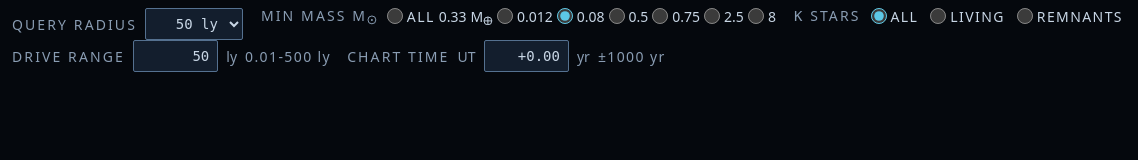
Test: ChartControls › refuses a chart time outside the clock window and reports nothing
The image size is (1138, 160).
Replace the text in the field labelled "CHART TIME" with "1001" at (526, 56), box [484,40,569,72]
Then press Enter
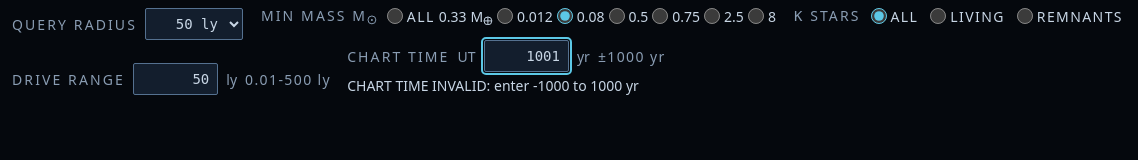
Now the text "CHART TIME INVALID: enter -1000 to 1000 yr" is shown, box [347,76,639,95]
